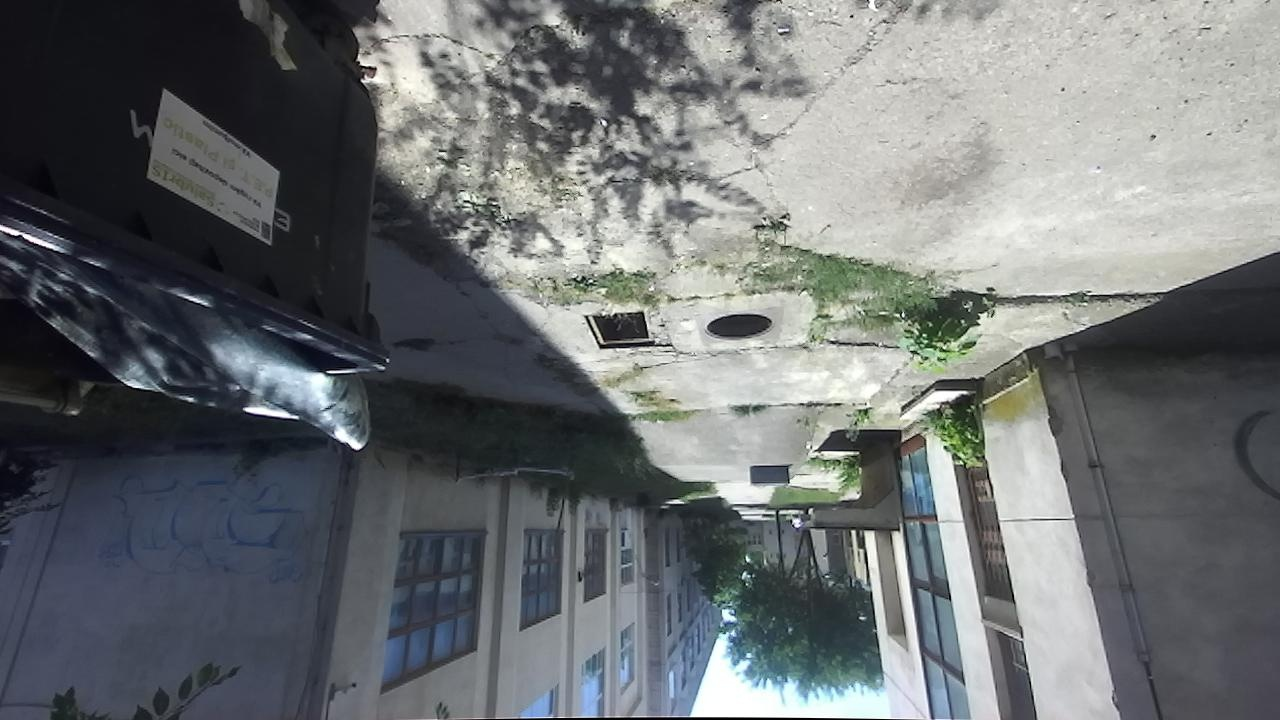drain: (579, 306, 668, 352), (701, 312, 776, 344)
